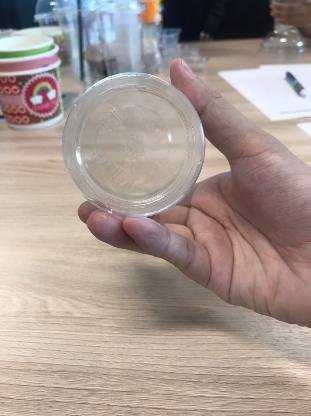Others: (58, 67, 212, 221)
